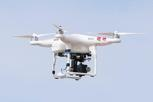UAV: (29, 27, 122, 81)
